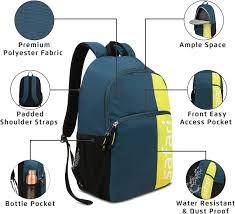backpack: (60, 40, 173, 204)
